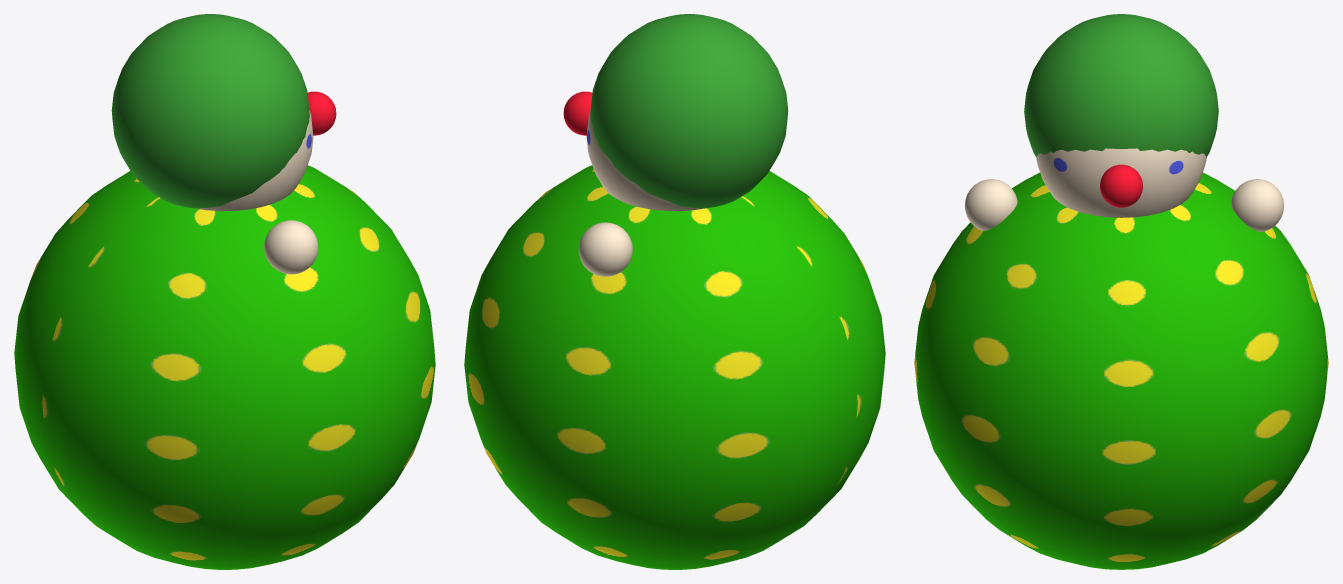
Rendered from clown_greenyellowdot.gltf.
3 views of the same model, side by side, from view 1: azimuth 30°, elevation 25°; view 2: azimuth 150°, elevation 25°; view 3: azimuth 270°, elevation 25° (orthographic).
Parts seen in each view (by area): view 1: Clown; view 2: Clown; view 3: Clown.
Part boxes in pixels (box(x1,y1,x2,y2)): Clown: box(14, 14, 435, 569); Clown: box(464, 14, 885, 569); Clown: box(914, 14, 1328, 569).
Bounding box in the file's own units: 2 × 2.77 × 2.
1 material, 1 textured.
